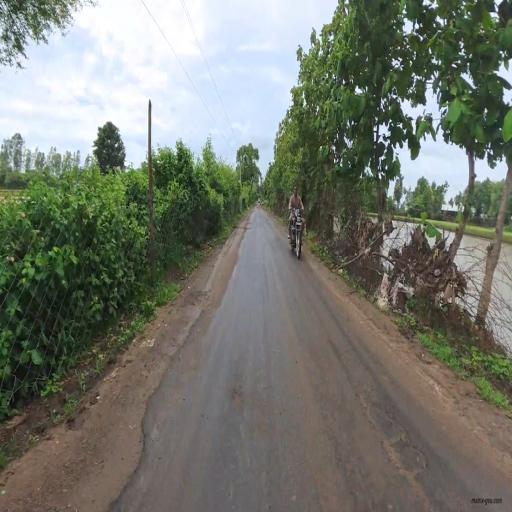edge_damage: (109, 411, 179, 509)
ravelling: (341, 366, 437, 511)
